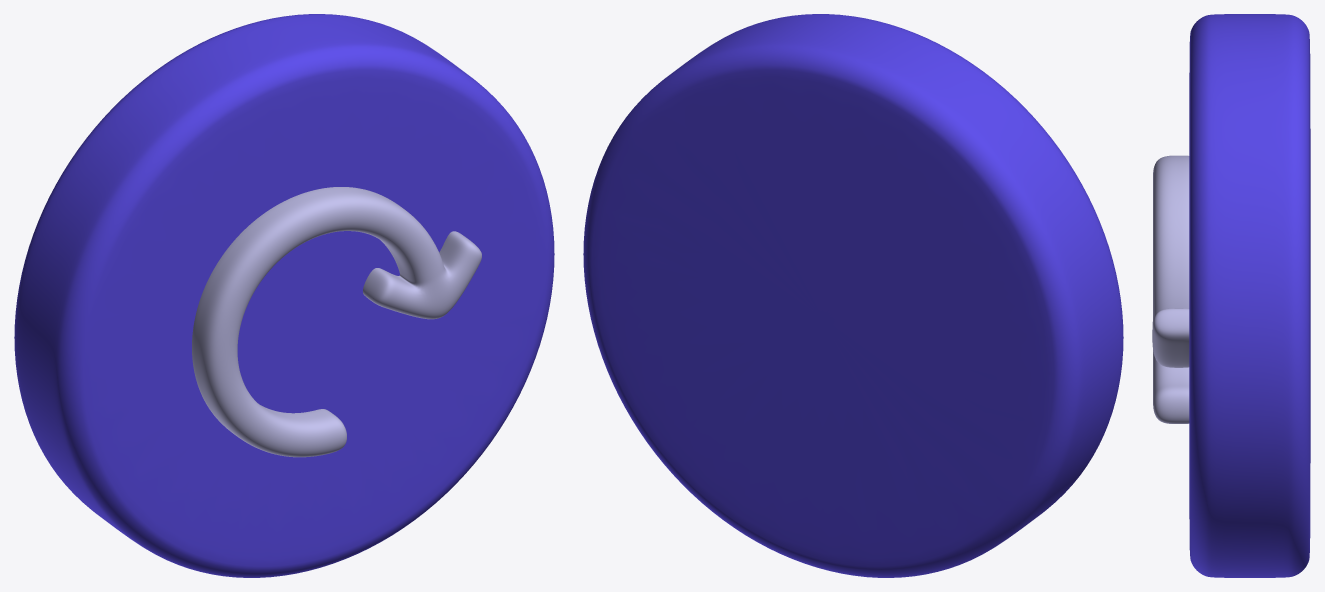
Rendered from redo-animated-3d-icon-1310851822984.glb.
The picture shows the model from 3 angles, left to right: view 1: azimuth 30°, elevation 25°; view 2: azimuth 150°, elevation 25°; view 3: azimuth 270°, elevation 25°; orthographic projection.
Visible parts, largest first — view 1: Base.004, Circle.002; view 2: Base.004; view 3: Base.004, Circle.002.
Part boxes in pixels (x1,y1,x2,y2): Base.004: [14, 14, 554, 577]; Circle.002: [192, 187, 481, 457]; Base.004: [583, 14, 1123, 577]; Base.004: [1189, 14, 1310, 577]; Circle.002: [1152, 155, 1189, 423].
Bounding box in the file's own units: 1.99 × 1.99 × 0.5577.
